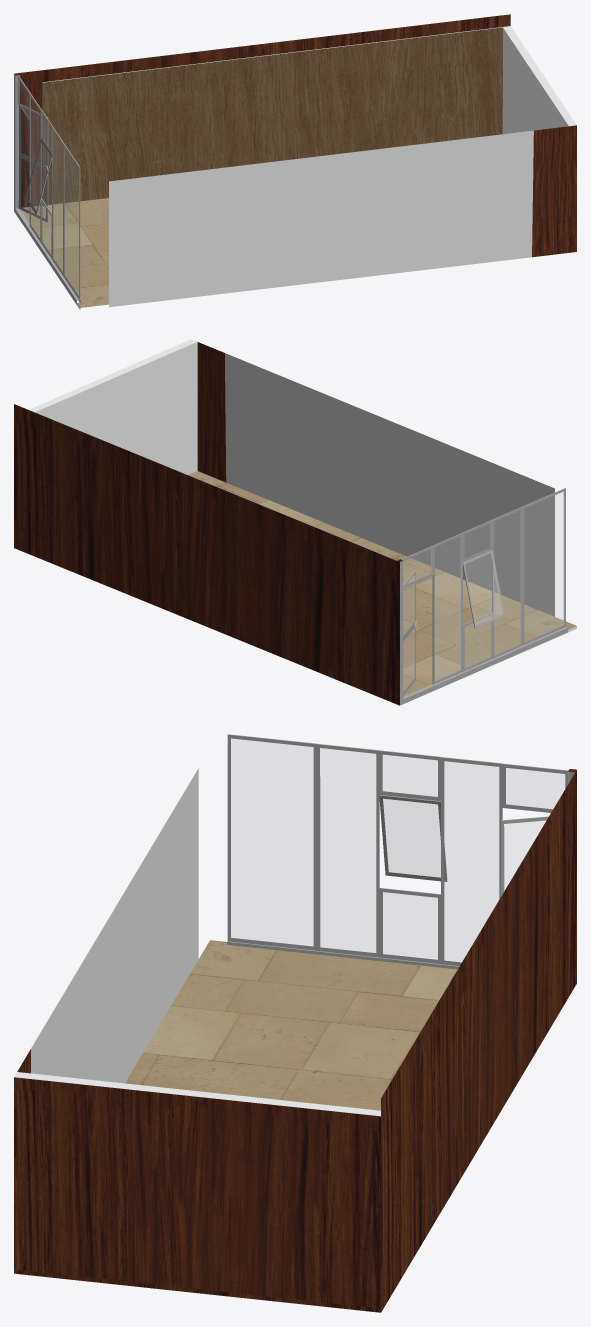
Rendered from aula_3_arriba.glb.
3 renders of one model, top to bottom at view 1: azimuth 30°, elevation 25°; view 2: azimuth 150°, elevation 25°; view 3: azimuth 270°, elevation 25°, orthographic. The views are drawn at different scales.
Visible parts, largest first — view 1: aula base.003; view 2: aula base.003; view 3: aula base.003.
Part boxes in pixels (x1=…): aula base.003: x1=14, y1=14, x2=576, y2=309; aula base.003: x1=14, y1=339, x2=576, y2=705; aula base.003: x1=14, y1=734, x2=576, y2=1312.
Size of the model in its own units: 64.41 by 17.59 by 41.71.
7 materials, 3 textured.
